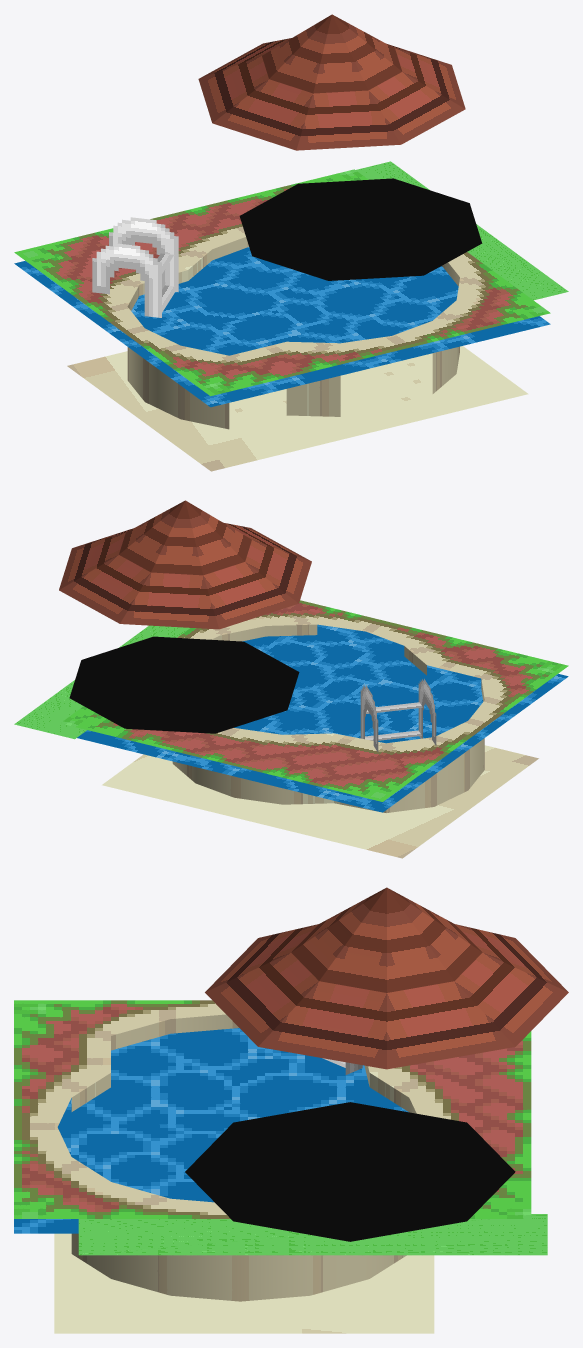
Rendered from pool_out_lm1_png.glb.
3 renders of one model, top to bottom at view 1: azimuth 30°, elevation 25°; view 2: azimuth 150°, elevation 25°; view 3: azimuth 270°, elevation 25°, orthographic. The views are drawn at different scales.
Visible parts, largest first — view 1: pool_out_lm1_png; view 2: pool_out_lm1_png; view 3: pool_out_lm1_png.
Part boxes in pixels (<box>): pool_out_lm1_png: <box>14,14,568,471</box>; pool_out_lm1_png: <box>14,500,568,858</box>; pool_out_lm1_png: <box>14,887,568,1333</box>.
Size of the model in its own units: 72.74 by 54.69 by 68.64.
5 materials, 5 textured.
